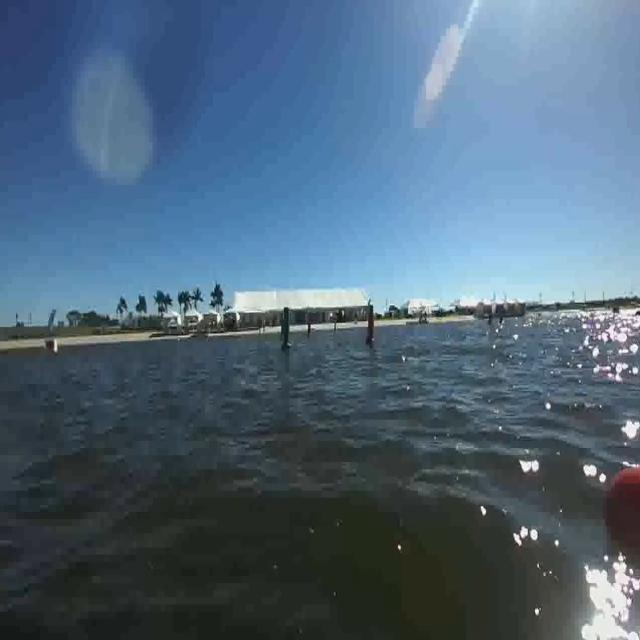green-column-buoy: (278, 305, 294, 351)
red-buoy: (603, 462, 640, 548)
red-column-buoy: (366, 302, 378, 345)
